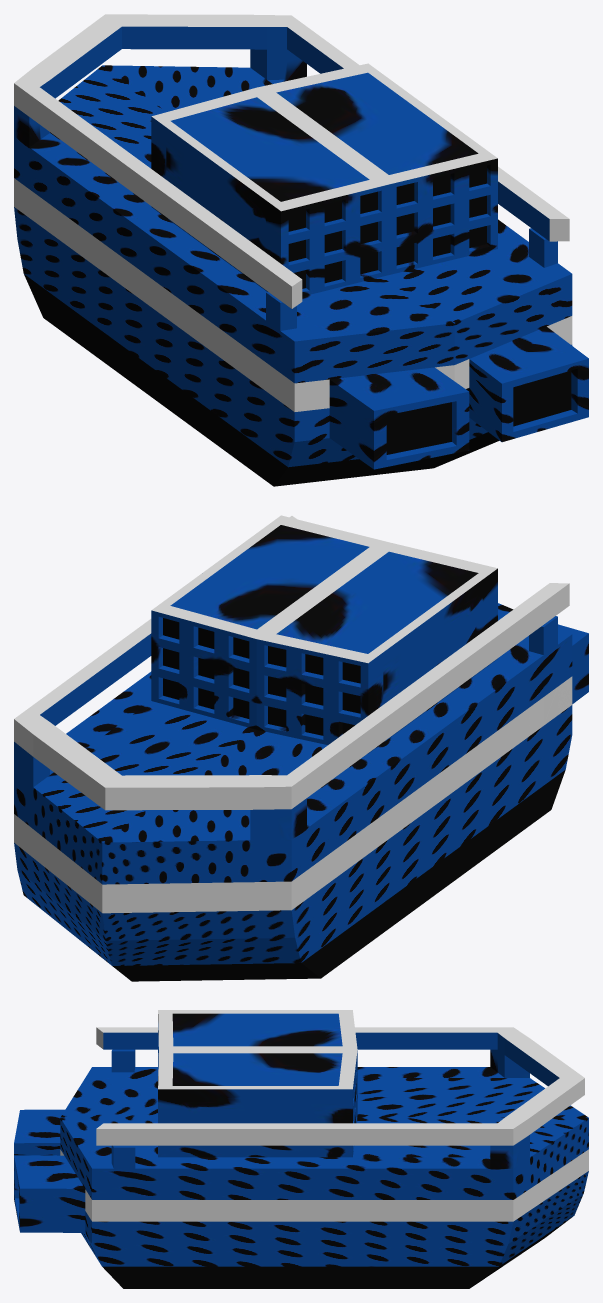
Rendered from BLUE_Destroyer.fbx.
The picture shows the model from 3 angles, top to bottom: view 1: azimuth 30°, elevation 25°; view 2: azimuth 150°, elevation 25°; view 3: azimuth 270°, elevation 25°; orthographic projection. The views are drawn at different scales.
Visible parts, largest first — view 1: Cube; view 2: Cube; view 3: Cube.
Part boxes in pixels (left/top/right/bottom): Cube: left=14, top=14, right=588, bottom=486; Cube: left=14, top=515, right=588, bottom=981; Cube: left=14, top=1010, right=588, bottom=1288.
Size of the model in its own units: 362 by 313 by 866.
